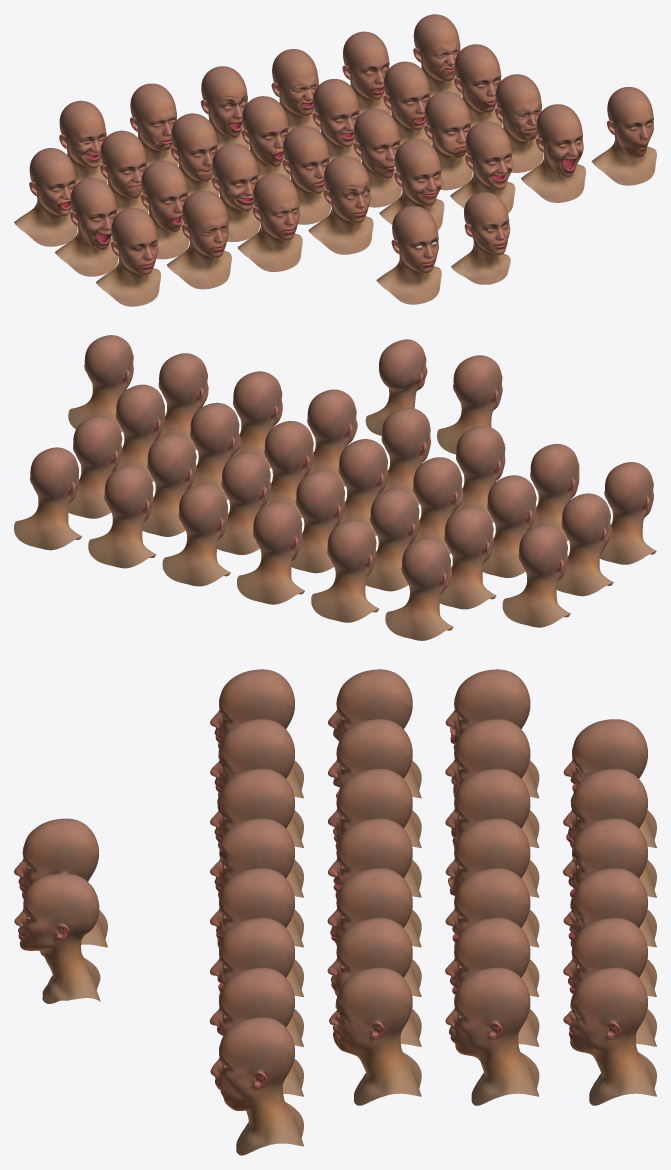
File: head.glb
3 views of the same model, one above another, from view 1: azimuth 30°, elevation 25°; view 2: azimuth 150°, elevation 25°; view 3: azimuth 270°, elevation 25° (orthographic). The views are drawn at different scales.
Parts seen in each view (by area): view 1: face__M__Eyes_Closed, face__M__Eyes_Wide, face__M__Mouth_Open_Wide, face__M__Eyes_Tight, face__M__Brows_Down, face, face__M__Long_Face, face__M__CH, face__M__Mouth_Open_Right, face__M__WOMAN, face__M__Smile_Open, face__M__Cheekl_Right (+18 smaller); view 2: face__M__Surprise, face__M__Happy, face__M__Sad, face__M__Anger, face__M__Fear, face__M__CH, face__M__Snarl, face__M__Mouth_Open_Right, face__M__FV, face__M__Eyes_Closed, face__M__MM, face__M__EE (+18 smaller); view 3: face__M__WW, face__M__Long_Face, face__M__Snarl, face__M__Face_Compress, face__M__WOMAN, face, face__M__Cheek_Puff, face__M__LL, face__M__Fear, face__M__Mouth_Open_Wide, face__M__OO, face__M__Cheek_Suck (+18 smaller).
Boxes of the visible parts, x1,y1,x2,y2 form: face__M__Eyes_Closed: (96, 208, 160, 306); face__M__Eyes_Wide: (308, 156, 373, 254); face__M__Mouth_Open_Wide: (521, 104, 585, 202); face__M__Eyes_Tight: (167, 190, 231, 289); face__M__Brows_Down: (237, 173, 302, 271); face: (376, 206, 441, 304); face__M__Long_Face: (591, 87, 656, 185); face__M__CH: (14, 148, 77, 246); face__M__Mouth_Open_Right: (55, 178, 118, 276); face__M__WOMAN: (451, 192, 510, 284); face__M__Smile_Open: (450, 121, 515, 213); face__M__Cheekl_Right: (211, 143, 260, 241); face__M__Surprise: (237, 502, 304, 604); face__M__Happy: (385, 538, 453, 640); face__M__Sad: (311, 520, 379, 622); face__M__Anger: (162, 483, 230, 586); face__M__Fear: (88, 465, 156, 568); face__M__CH: (502, 524, 570, 627); face__M__Snarl: (14, 447, 81, 550); face__M__Mouth_Open_Right: (557, 493, 613, 596); face__M__FV: (439, 506, 496, 609); face__M__Eyes_Closed: (600, 462, 656, 564); face__M__MM: (365, 488, 419, 591); face__M__EE: (217, 452, 271, 554); face__M__WW: (445, 967, 539, 1105); face__M__Long_Face: (210, 1017, 303, 1155); face__M__Snarl: (563, 967, 656, 1105); face__M__Face_Compress: (329, 967, 421, 1105); face__M__WOMAN: (14, 873, 100, 1003); face: (14, 818, 107, 955); face__M__Cheek_Puff: (327, 918, 421, 1046); face__M__LL: (445, 918, 539, 1046); face__M__Fear: (563, 918, 656, 1046); face__M__Mouth_Open_Wide: (209, 967, 303, 1096); face__M__OO: (445, 818, 539, 947); face__M__Cheek_Suck: (327, 868, 421, 996).
Bounding box in the file's own units: 2.36 × 0.3587 × 1.64.
2 materials, 1 textured.
